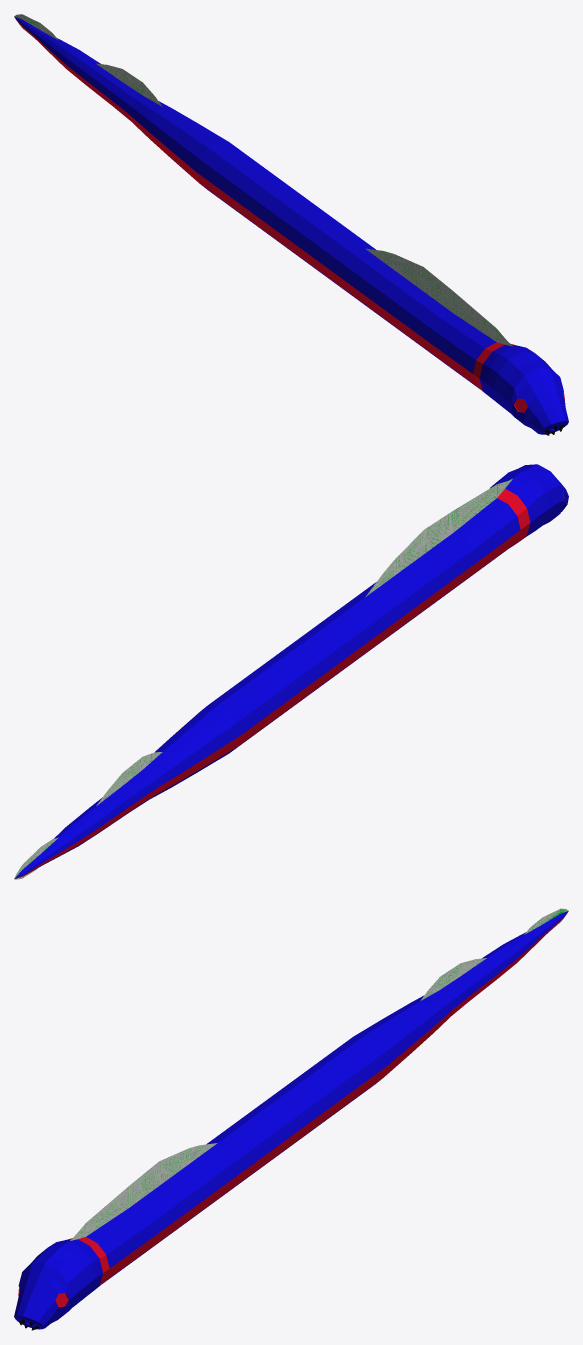
The model's file is Lamprey.fbx.
3 renders of one model, top to bottom at view 1: azimuth 30°, elevation 25°; view 2: azimuth 150°, elevation 25°; view 3: azimuth 330°, elevation 25°, orthographic.
Visible parts, largest first — view 1: Torus; view 2: Torus; view 3: Torus.
Part boxes in pixels (box(x1,y1,x2,y2)): Torus: box(14, 14, 568, 435); Torus: box(14, 464, 568, 879); Torus: box(14, 908, 568, 1330).
Size of the model in its own units: 1.43 by 1.89 by 24.49.
